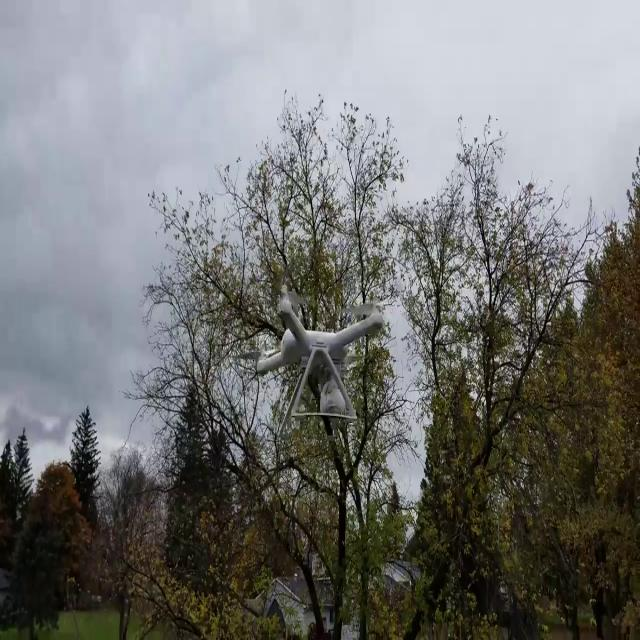drone: (238, 280, 397, 397)
